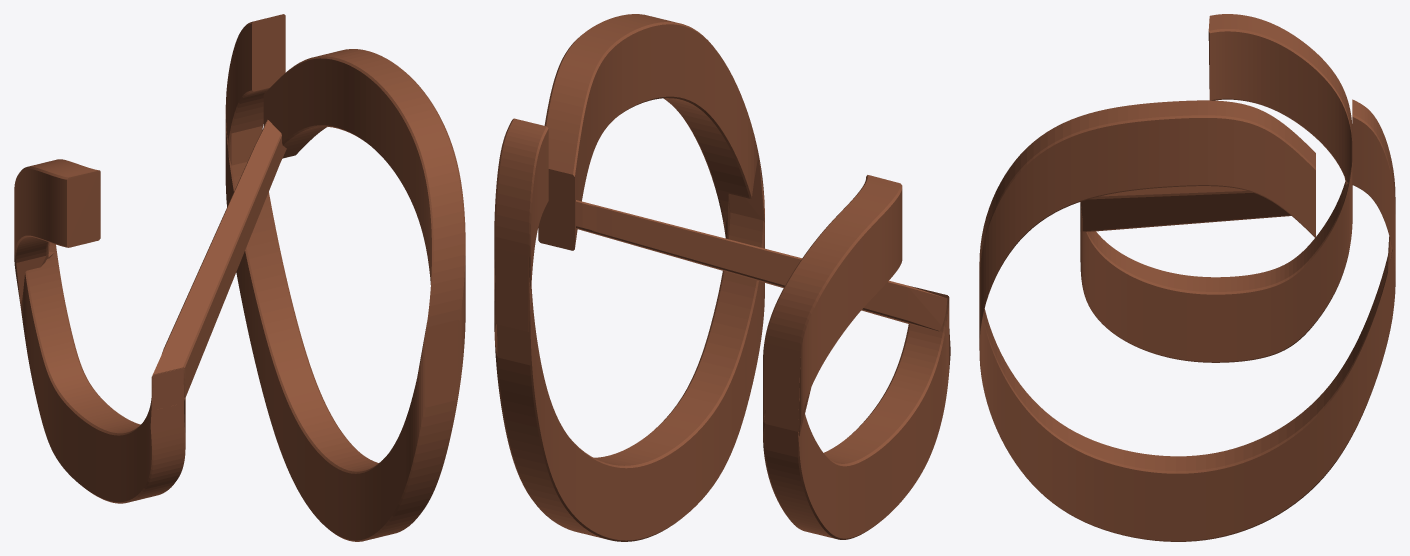
The model's file is Kineme_Spine.fbx.
3 renders of one model, left to right at view 1: azimuth 30°, elevation 25°; view 2: azimuth 150°, elevation 25°; view 3: azimuth 270°, elevation 25°, orthographic. The views are drawn at different scales.
Visible parts, largest first — view 1: Waves_Spine; view 2: Waves_Spine; view 3: Waves_Spine.
Part boxes in pixels (x1,y1,x2,y2): Waves_Spine: [14, 14, 465, 541]; Waves_Spine: [494, 14, 950, 541]; Waves_Spine: [979, 14, 1395, 541].
Bounding box in the file's own units: 23.86 × 31.53 × 26.63.
